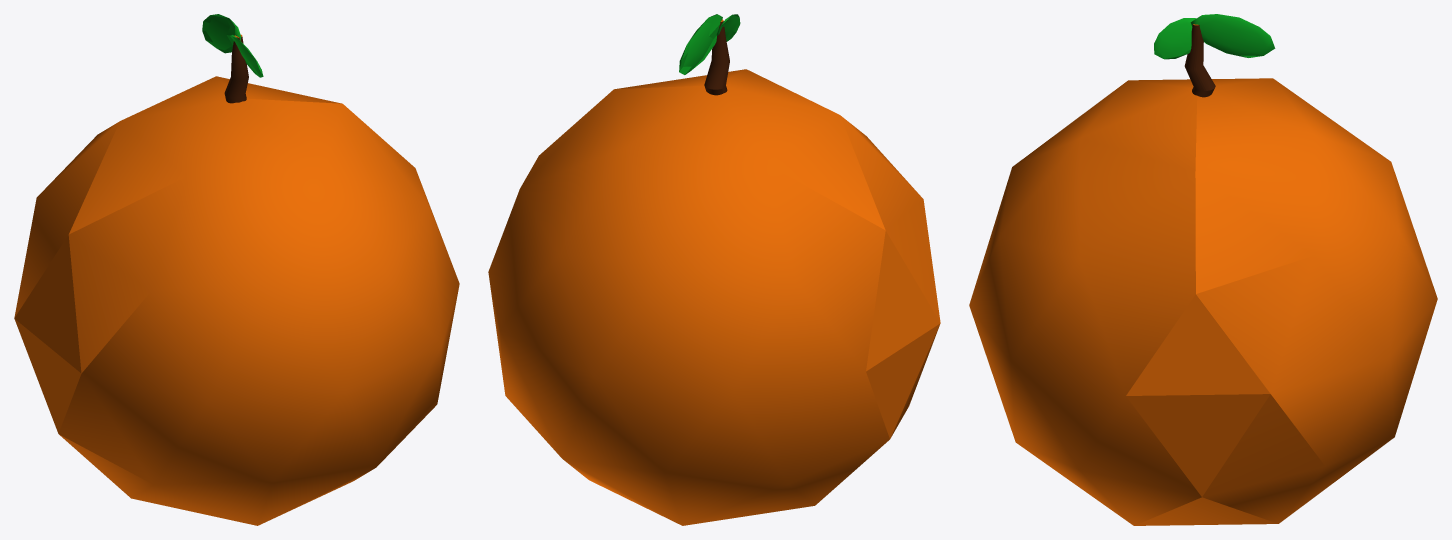
Rendered from Orange.fbx.
The picture shows the model from 3 angles, left to right: view 1: azimuth 30°, elevation 25°; view 2: azimuth 150°, elevation 25°; view 3: azimuth 270°, elevation 25°; orthographic projection. The views are drawn at different scales.
Parts seen in each view (by area): view 1: orange; view 2: orange; view 3: orange.
Part boxes in pixels (box(x1,y1,x2,y2)): orange: box(14, 14, 459, 525); orange: box(488, 14, 940, 525); orange: box(969, 14, 1437, 525).
Bounding box in the file's own units: 33.95 × 41.71 × 35.42.
